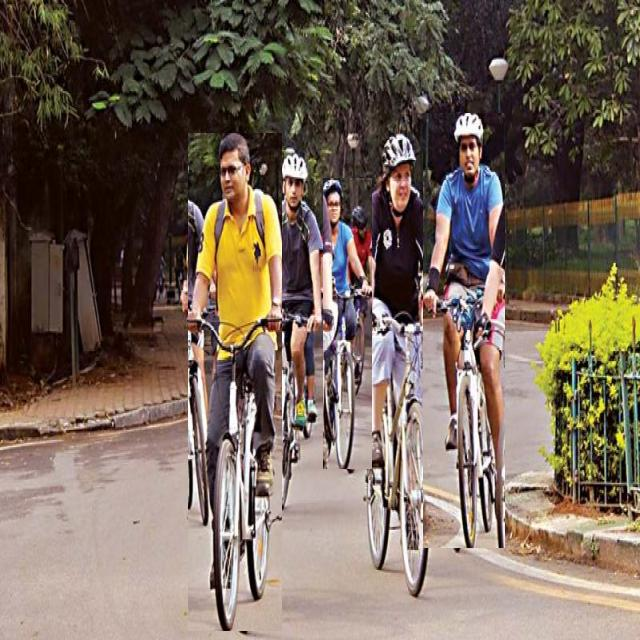bicycle: (188, 134, 282, 631), (356, 134, 450, 595), (423, 114, 504, 548), (262, 150, 322, 525), (323, 178, 371, 469)
